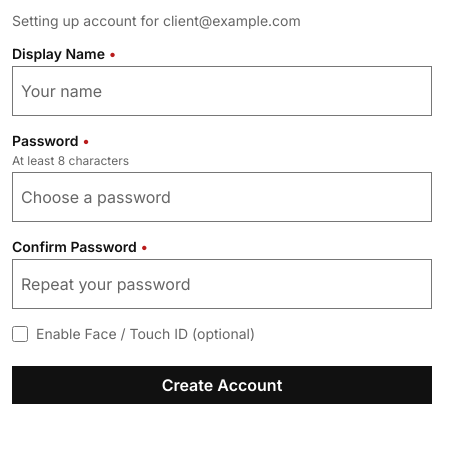
Scenario: InviteForm › shows a validation error and does not submit when the display name is empty
Type "pw123456" into the password field with placeholder "Choose a password" at [222, 197], box [12,172,432,222]
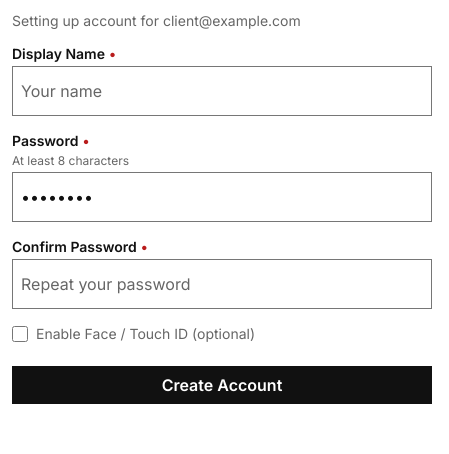
Type "pw123456" into the password field with placeholder "Repeat your password" at [222, 284], box [12,259,432,309]
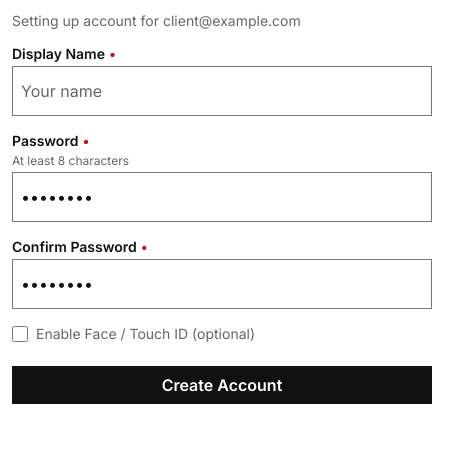
Click the button "Create Account" at [222, 385], box [12,366,432,404]
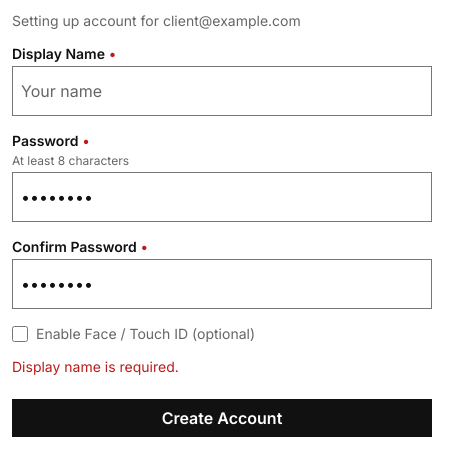
Expected: the message shows "Display name is required", [12,358,179,375]
